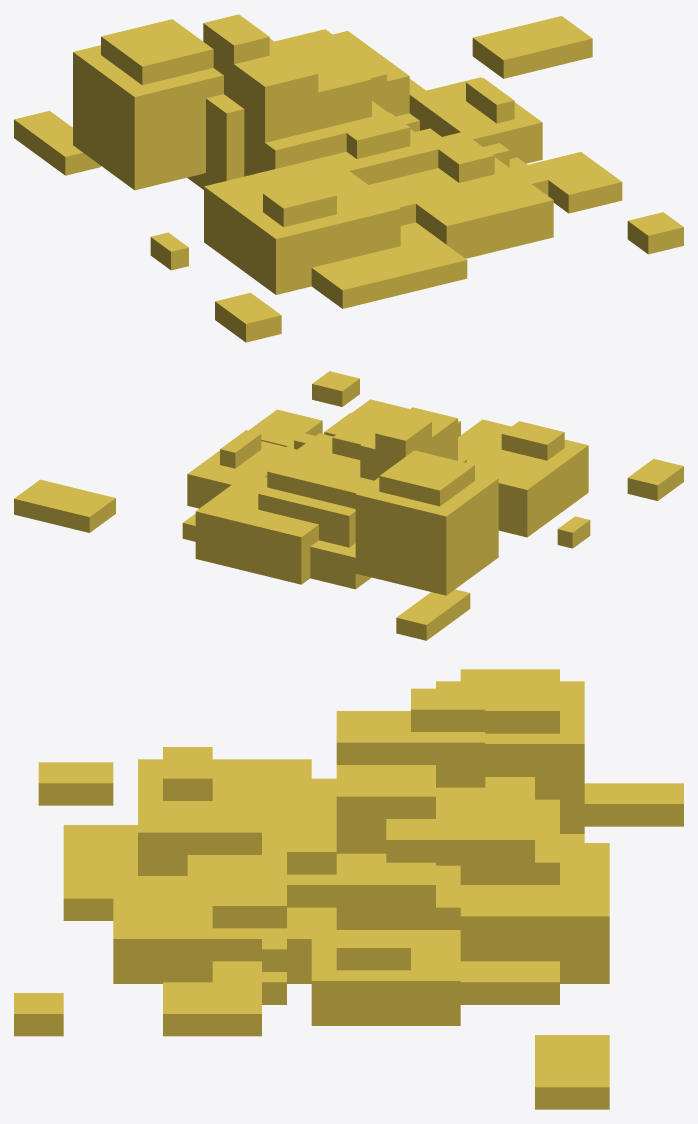
File: Treasure_small.obj
3 renders of one model, top to bottom at view 1: azimuth 30°, elevation 25°; view 2: azimuth 150°, elevation 25°; view 3: azimuth 270°, elevation 25°, orthographic. The views are drawn at different scales.
Parts seen in each view (by area): view 1: Treasure_small; view 2: Treasure_small; view 3: Treasure_small.
Boxes of the visible parts, x1=… form: Treasure_small: x1=14, y1=14, x2=683, y2=342; Treasure_small: x1=14, y1=371, x2=683, y2=640; Treasure_small: x1=14, y1=669, x2=683, y2=1109.
Size of the model in its own units: 3.1 by 0.8 by 2.7.
1 material, 1 textured.
